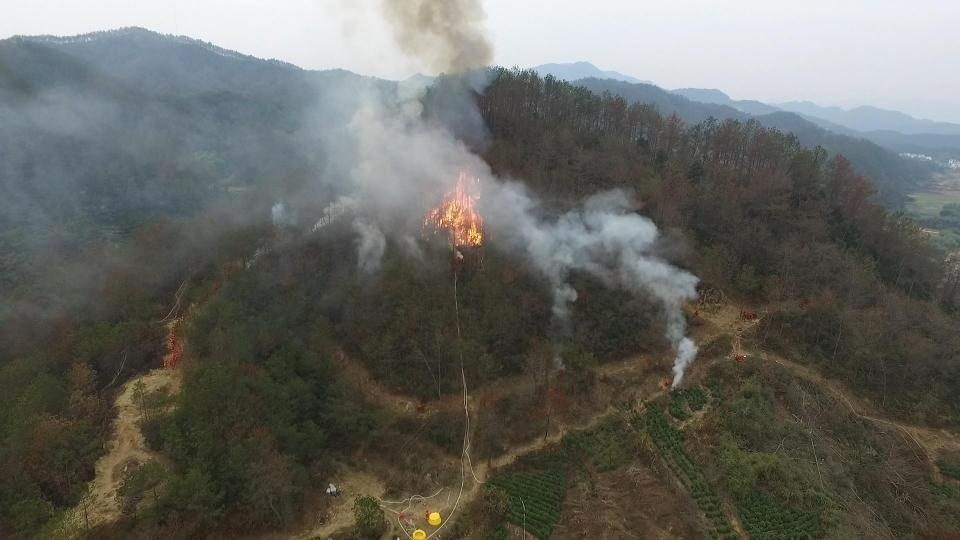fire: (418, 163, 496, 251)
